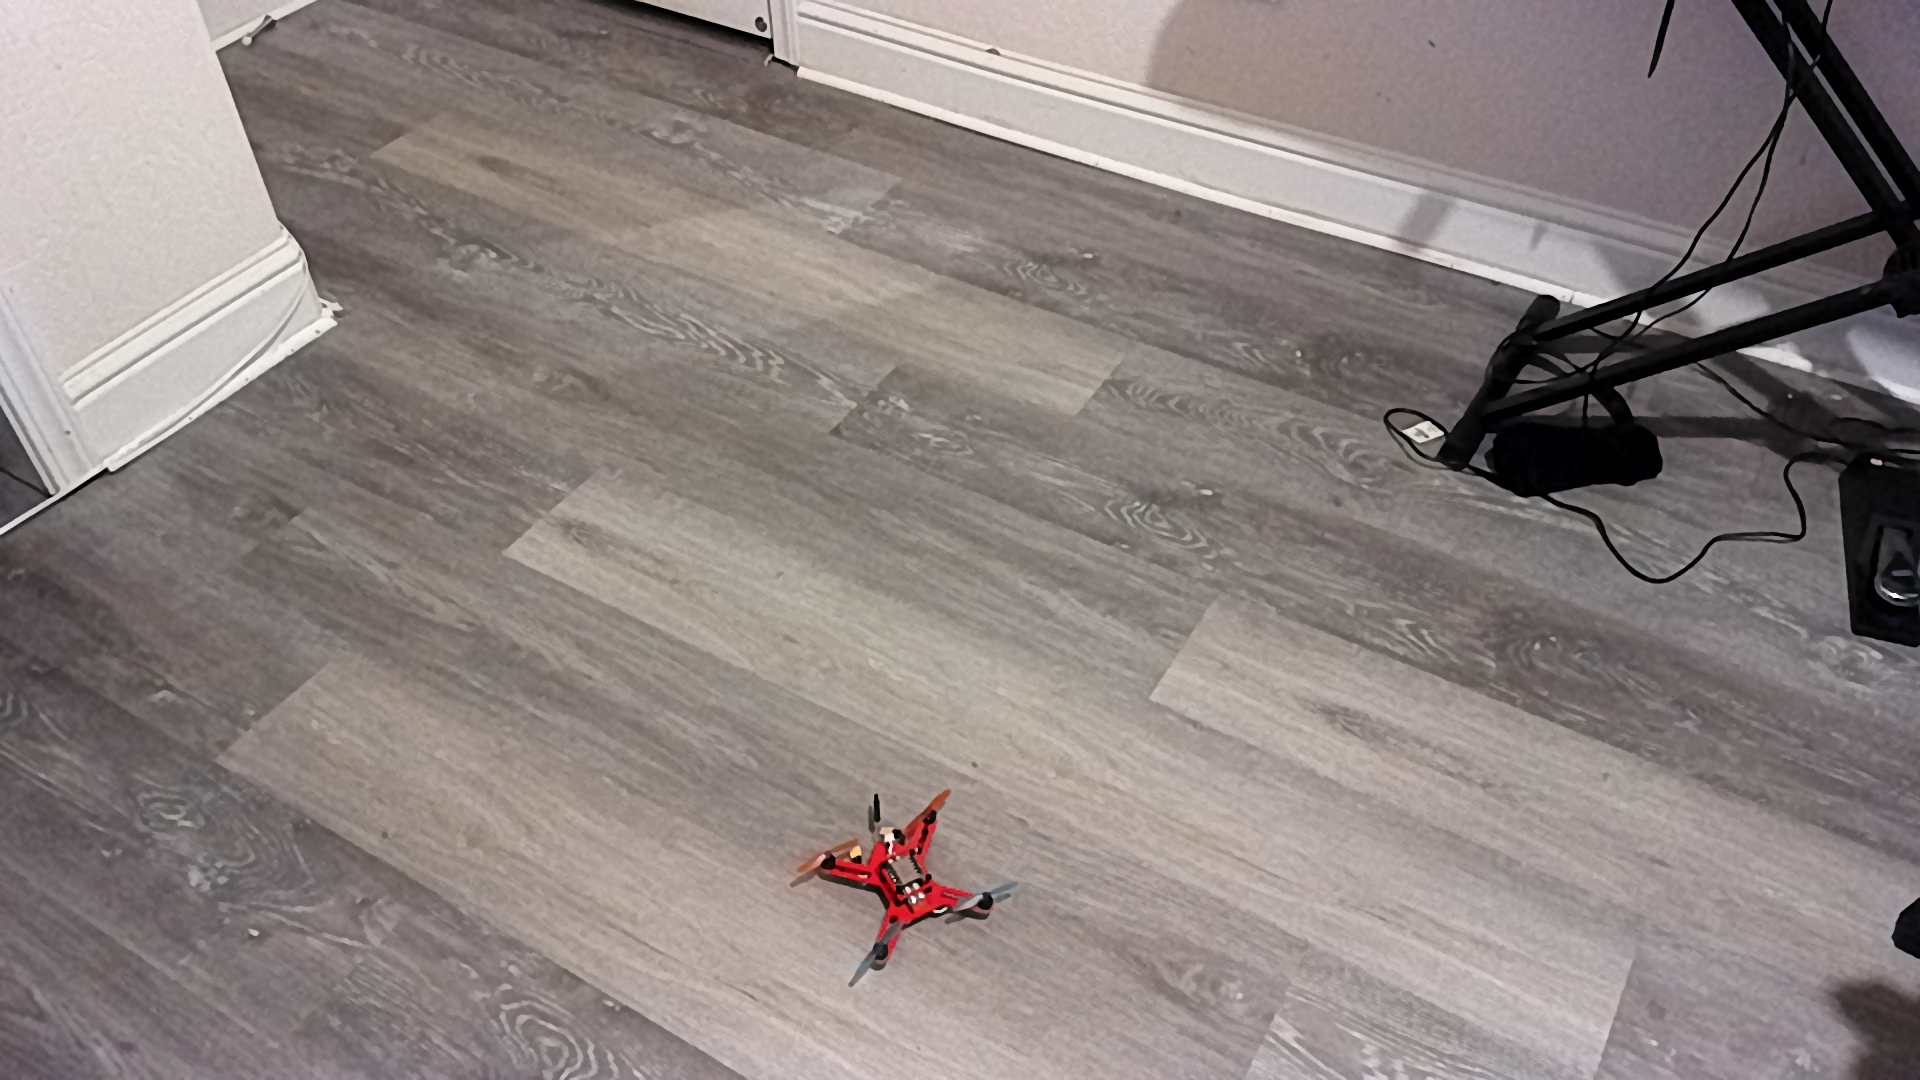drone: (787, 787, 1035, 992)
